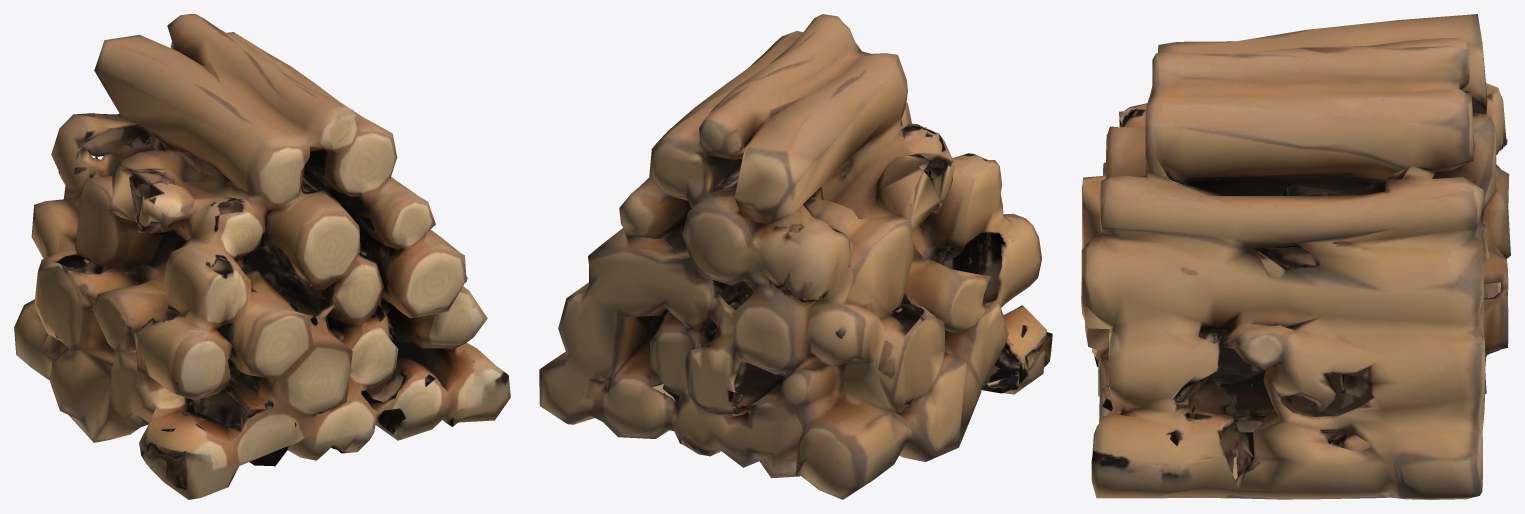
The model's file is log-pile.glb.
The picture shows the model from 3 angles, left to right: view 1: azimuth 30°, elevation 25°; view 2: azimuth 150°, elevation 25°; view 3: azimuth 270°, elevation 25°; orthographic projection. The views are drawn at different scales.
Size of the model in its own units: 2 by 1.88 by 1.9.
1 material, 1 textured.
